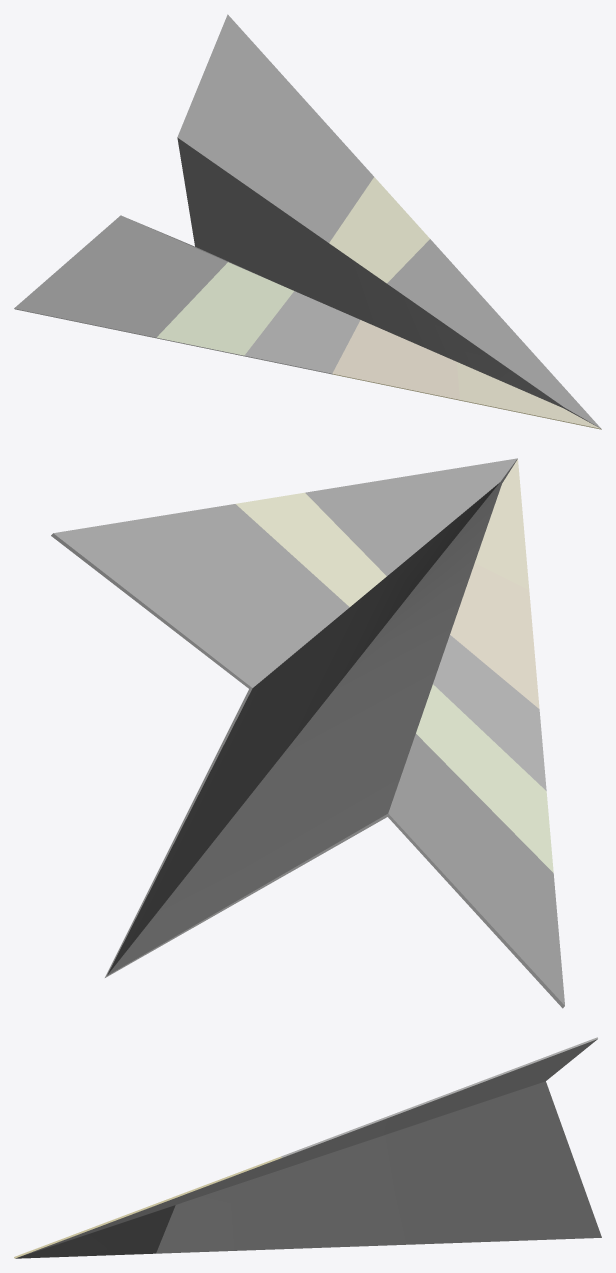
The model's file is Paper plane.fbx.
3 renders of one model, top to bottom at view 1: azimuth 30°, elevation 25°; view 2: azimuth 150°, elevation 25°; view 3: azimuth 270°, elevation 25°, orthographic. The views are drawn at different scales.
Parts seen in each view (by area): view 1: Paper plane; view 2: Paper plane; view 3: Paper plane.
Part boxes in pixels (x1,y1,x2,y2): Paper plane: (14, 14, 601, 429); Paper plane: (51, 458, 564, 1008); Paper plane: (14, 1037, 601, 1258).
Bounding box in the file's own units: 48.57 × 34.41 × 85.6.
